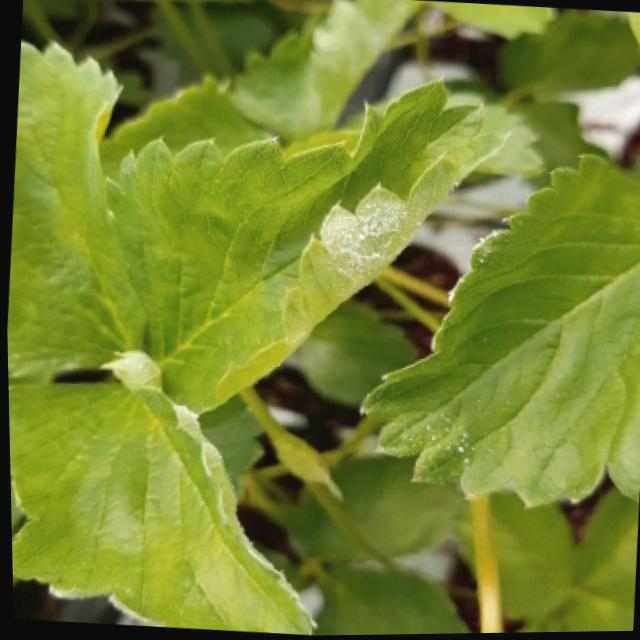Powdery Mildew Leaf: (5, 34, 508, 415), (355, 154, 640, 513), (7, 349, 314, 636)
